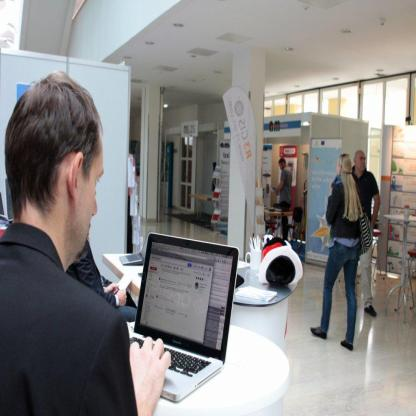board: (127, 241, 238, 404)
